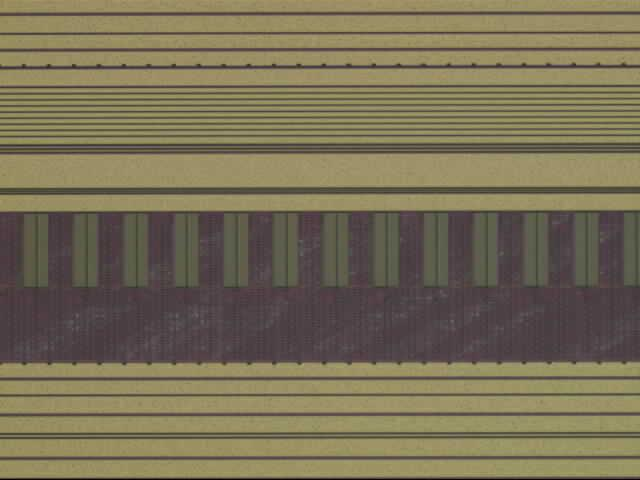SCRATCH: (9, 208, 640, 373)
